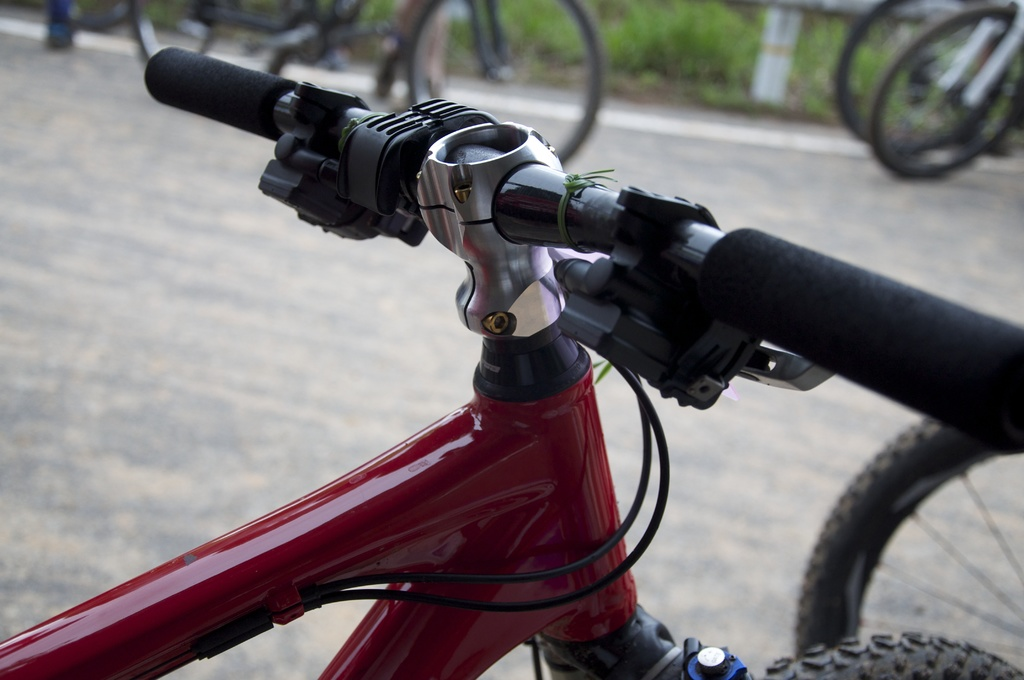bicycle: (0, 46, 1023, 679)
